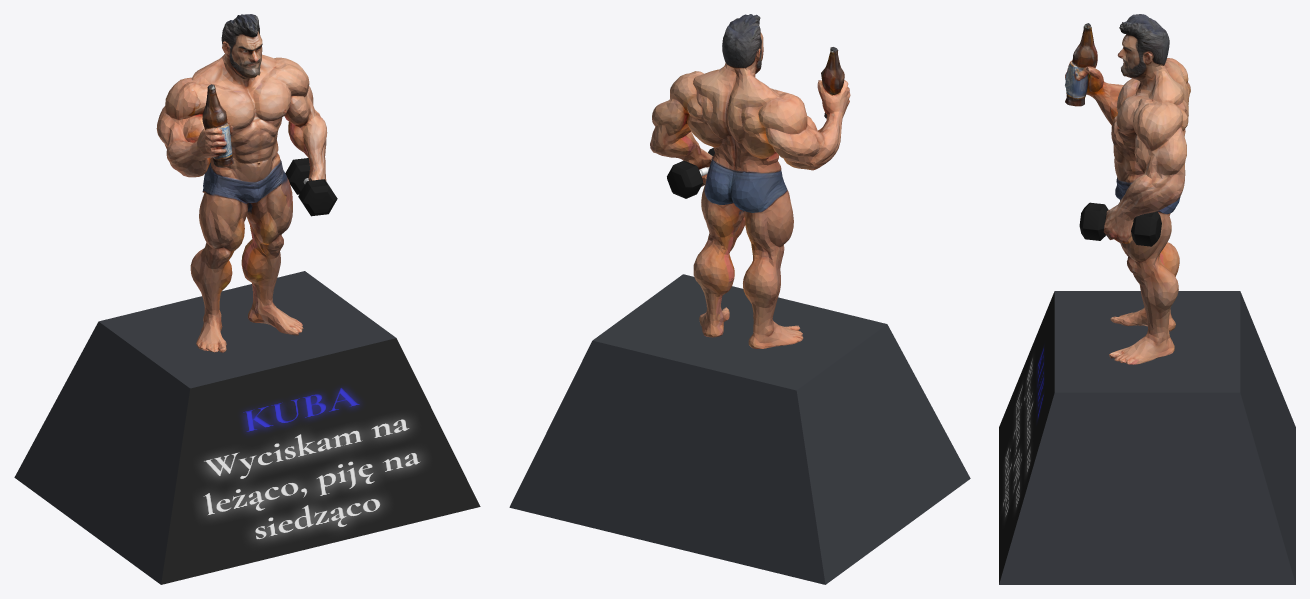
File: BeerEdition.gltf
3 views of the same model, side by side, from view 1: azimuth 30°, elevation 25°; view 2: azimuth 150°, elevation 25°; view 3: azimuth 270°, elevation 25° (orthographic). The views are drawn at different scales.
Visible parts, largest first — view 1: another_stand2.002, another_stand2.003, Highly_detailed_3D_mo_0522184134_texture; view 2: another_stand2.003, Highly_detailed_3D_mo_0522184134_texture; view 3: another_stand2.003, Highly_detailed_3D_mo_0522184134_texture, another_stand2.002.
Part boxes in pixels (box(x1,y1,x2,y2)): another_stand2.002: box(161, 338, 480, 584); another_stand2.003: box(14, 271, 395, 584); Highly_detailed_3D_mo_0522184134_texture: box(156, 14, 337, 352); another_stand2.003: box(509, 274, 970, 584); Highly_detailed_3D_mo_0522184134_texture: box(650, 14, 850, 348); another_stand2.003: box(999, 291, 1295, 584); Highly_detailed_3D_mo_0522184134_texture: box(1065, 14, 1190, 364); another_stand2.002: box(999, 291, 1054, 583).
Bounding box in the file's own units: 2.07 × 2.99 × 1.65.
Materials: 7 (2 with a texture image).
